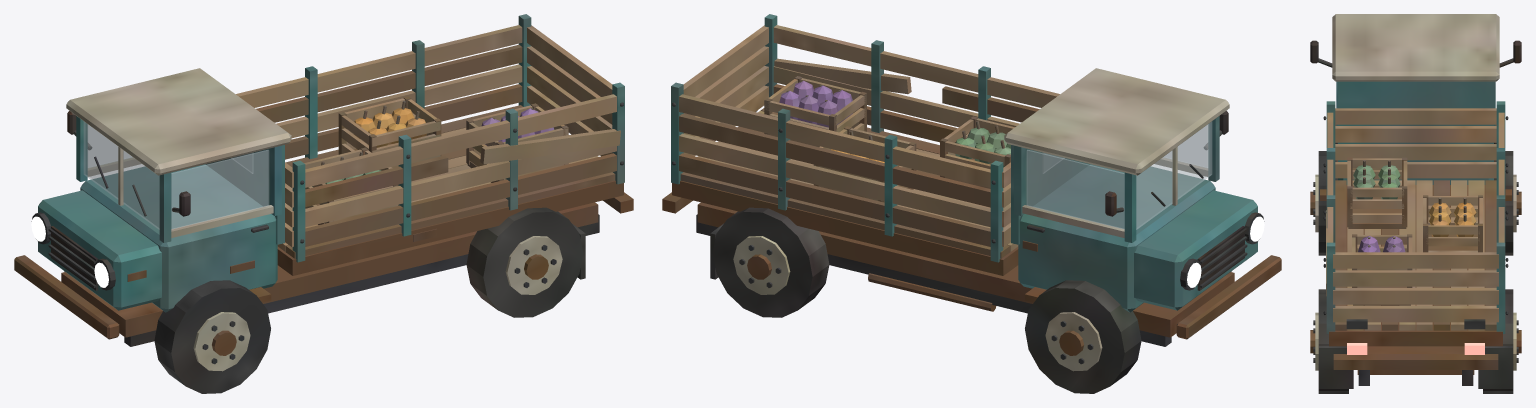
File: CV14_vegetable_truck.glb
3 views of the same model, side by side, from view 1: azimuth 30°, elevation 25°; view 2: azimuth 150°, elevation 25°; view 3: azimuth 270°, elevation 25° (orthographic). The views are drawn at different scales.
Visible parts, largest first — view 1: Ladder chassis; view 2: Ladder chassis; view 3: Ladder chassis.
Boxes of the visible parts, x1,y1,x2,y2 form: Ladder chassis: (14, 14, 633, 393); Ladder chassis: (662, 14, 1281, 393); Ladder chassis: (1310, 14, 1521, 393).
Bounding box in the file's own units: 7 × 2.98 × 2.67.
14 materials, 11 textured.
